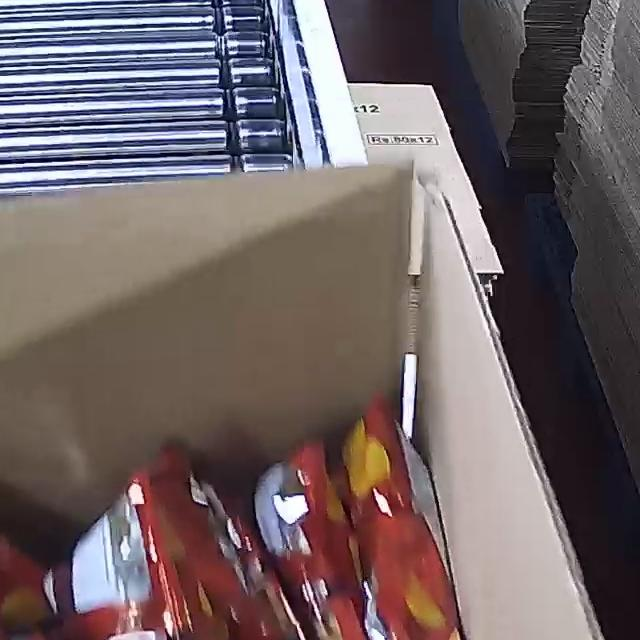masala: (0, 395, 525, 640)
